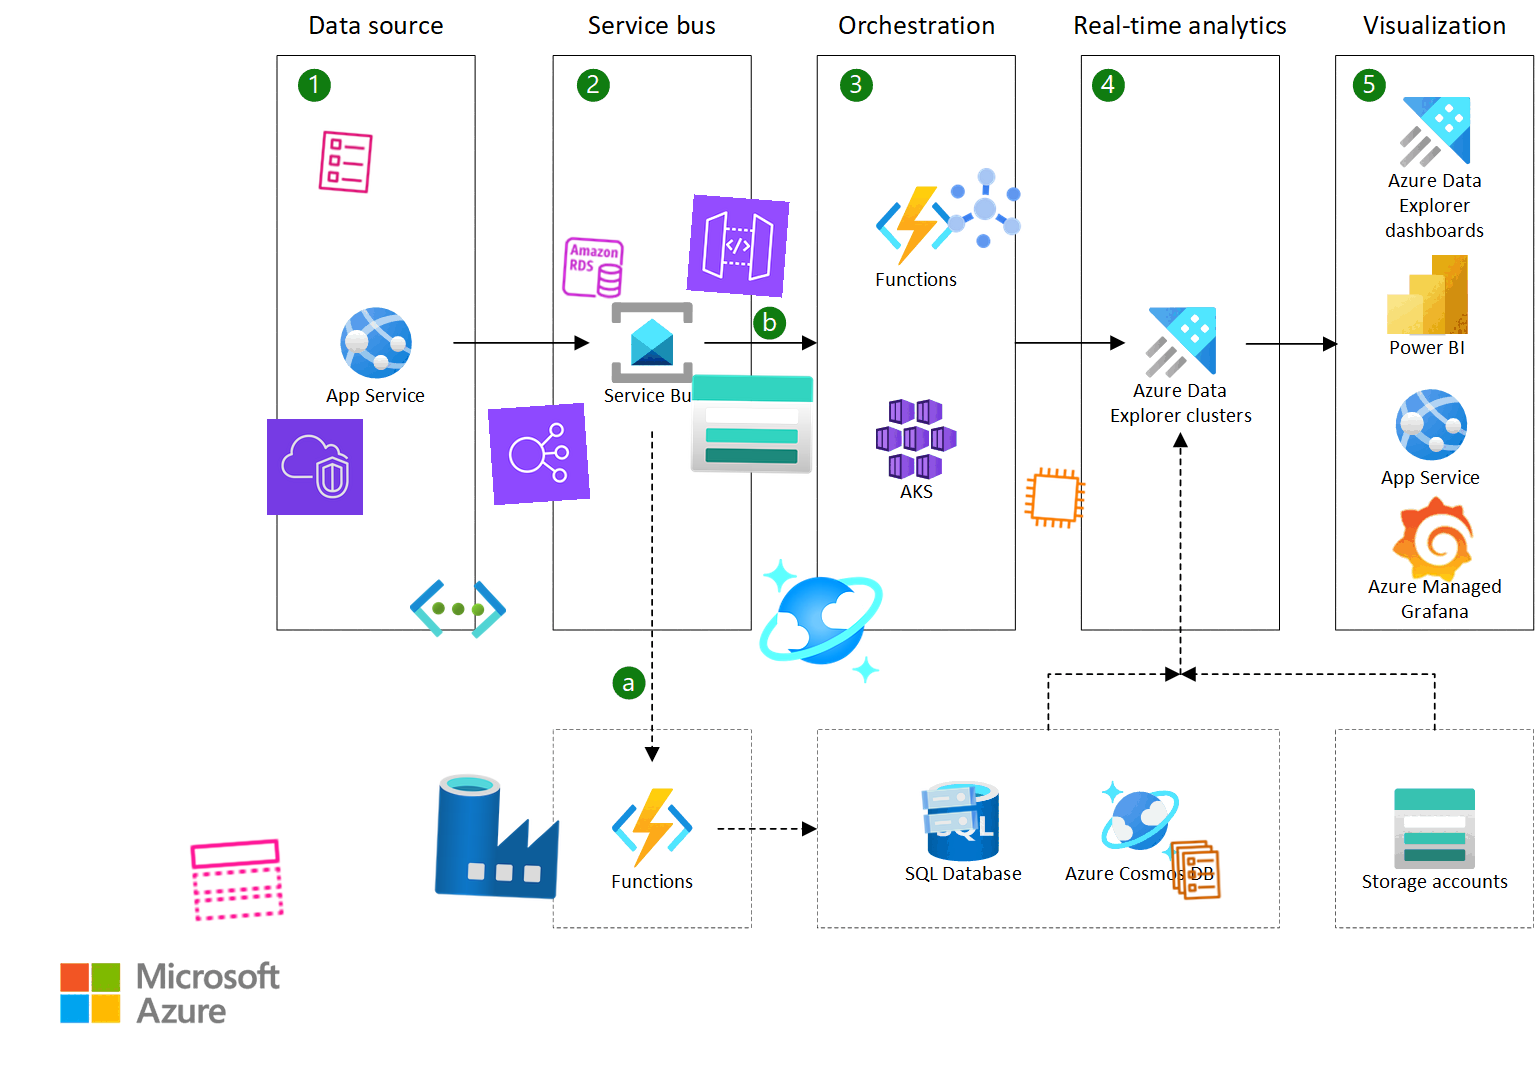aws_amazon_api_gateway: (685, 195, 790, 298)
aws_amazon_virtual_private_cloud: (266, 418, 364, 516)
aws_aurora_amazon_rds_instance: (558, 233, 628, 304)
aws_cloudformation_template: (311, 127, 380, 197)
aws_ec2_instance: (1019, 463, 1090, 533)
aws_elastic_container_service_service: (1162, 836, 1230, 904)
aws_elastic_load_balancing: (487, 402, 591, 506)
aws_simple_notification_service_topic: (185, 827, 289, 932)
azure_cosmos_db: (753, 554, 888, 688)
azure_data_factories: (431, 769, 565, 902)
azure_storage_accounts: (687, 359, 817, 489)
azure_virtual_networks: (408, 559, 509, 659)
gcp_cloud_storage: (915, 775, 985, 845)
gcp_pubsub: (934, 157, 1036, 259)
